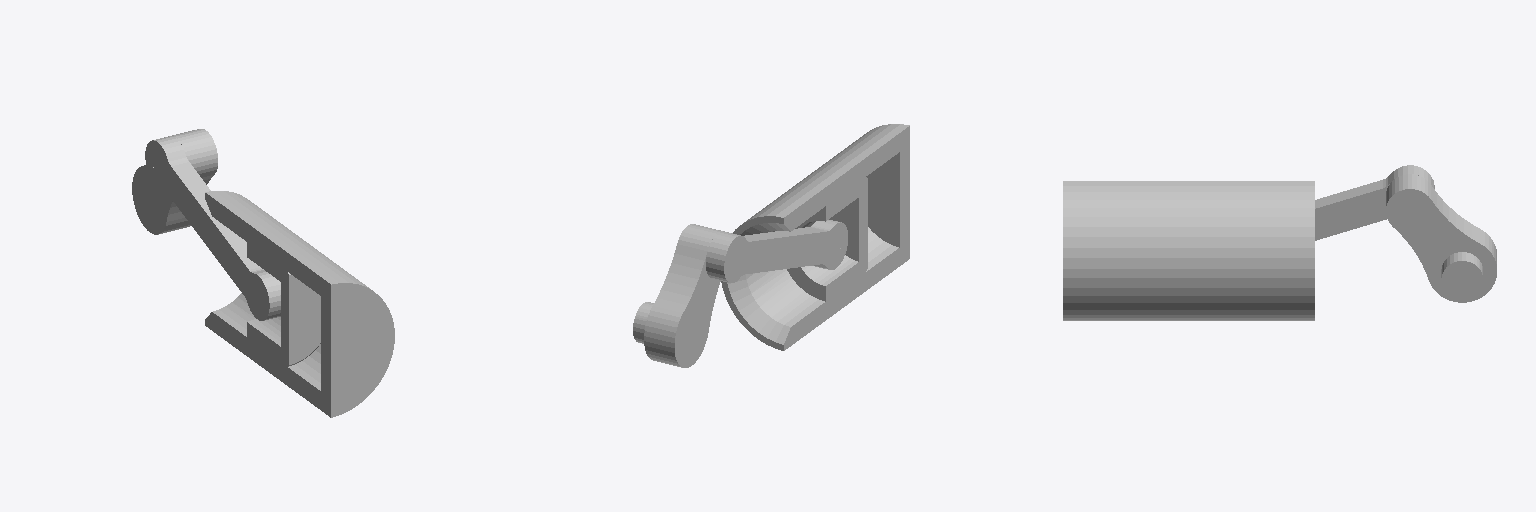
File: slider_crank.obj
3 views of the same model, side by side, from view 1: azimuth 30°, elevation 25°; view 2: azimuth 150°, elevation 25°; view 3: azimuth 270°, elevation 25° (orthographic).
Parts seen in each view (by area): view 1: mesh 0.0 housing-1; view 2: mesh 0.0 housing-1; view 3: mesh 0.0 housing-1.
Boxes of the visible parts, x1,y1,x2,y2 form: mesh 0.0 housing-1: [132, 129, 394, 417]; mesh 0.0 housing-1: [633, 124, 909, 367]; mesh 0.0 housing-1: [1063, 165, 1496, 320].
Bounding box in the file's own units: 0.055 × 0.117 × 0.31.